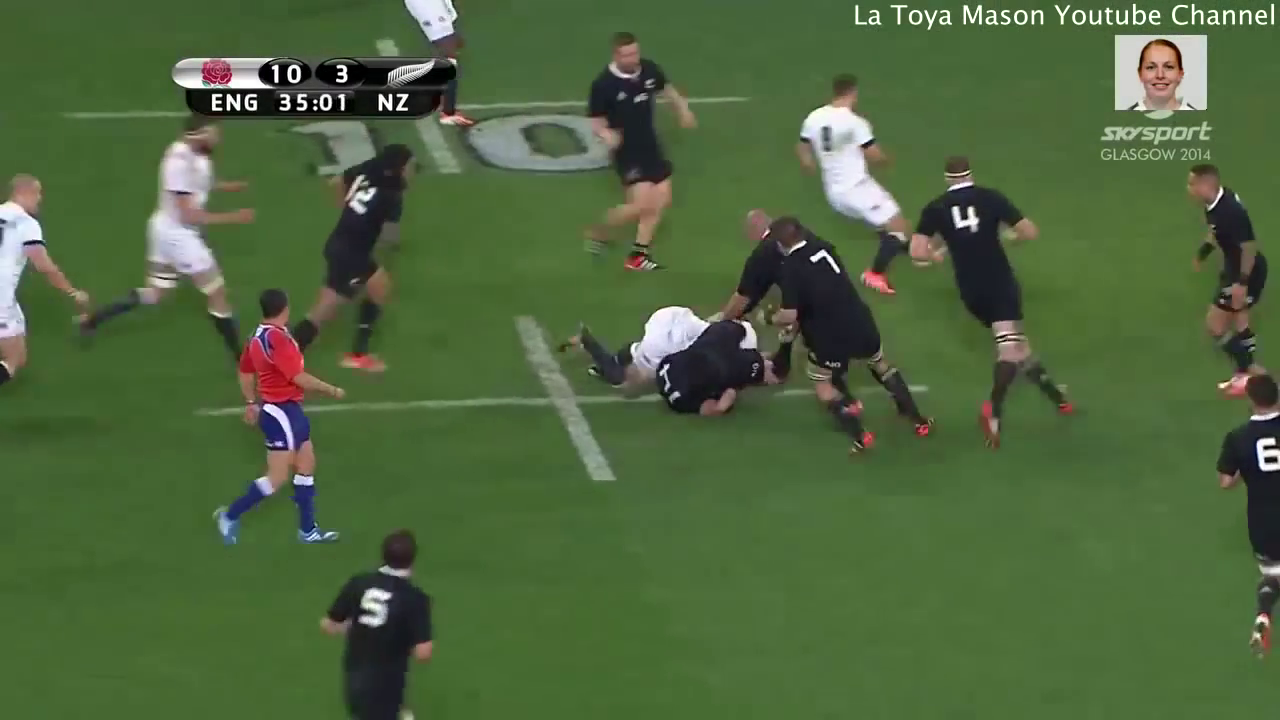10_metre: (186, 301, 947, 492), (55, 95, 759, 178)
player: (903, 152, 1079, 456), (69, 121, 260, 370), (769, 210, 944, 456), (207, 285, 346, 551), (278, 146, 425, 376), (570, 19, 701, 273), (790, 68, 920, 292), (319, 532, 450, 720), (1177, 160, 1280, 399), (1, 163, 95, 411), (1207, 364, 1280, 665), (551, 296, 710, 396), (656, 319, 787, 416), (718, 208, 792, 360)
